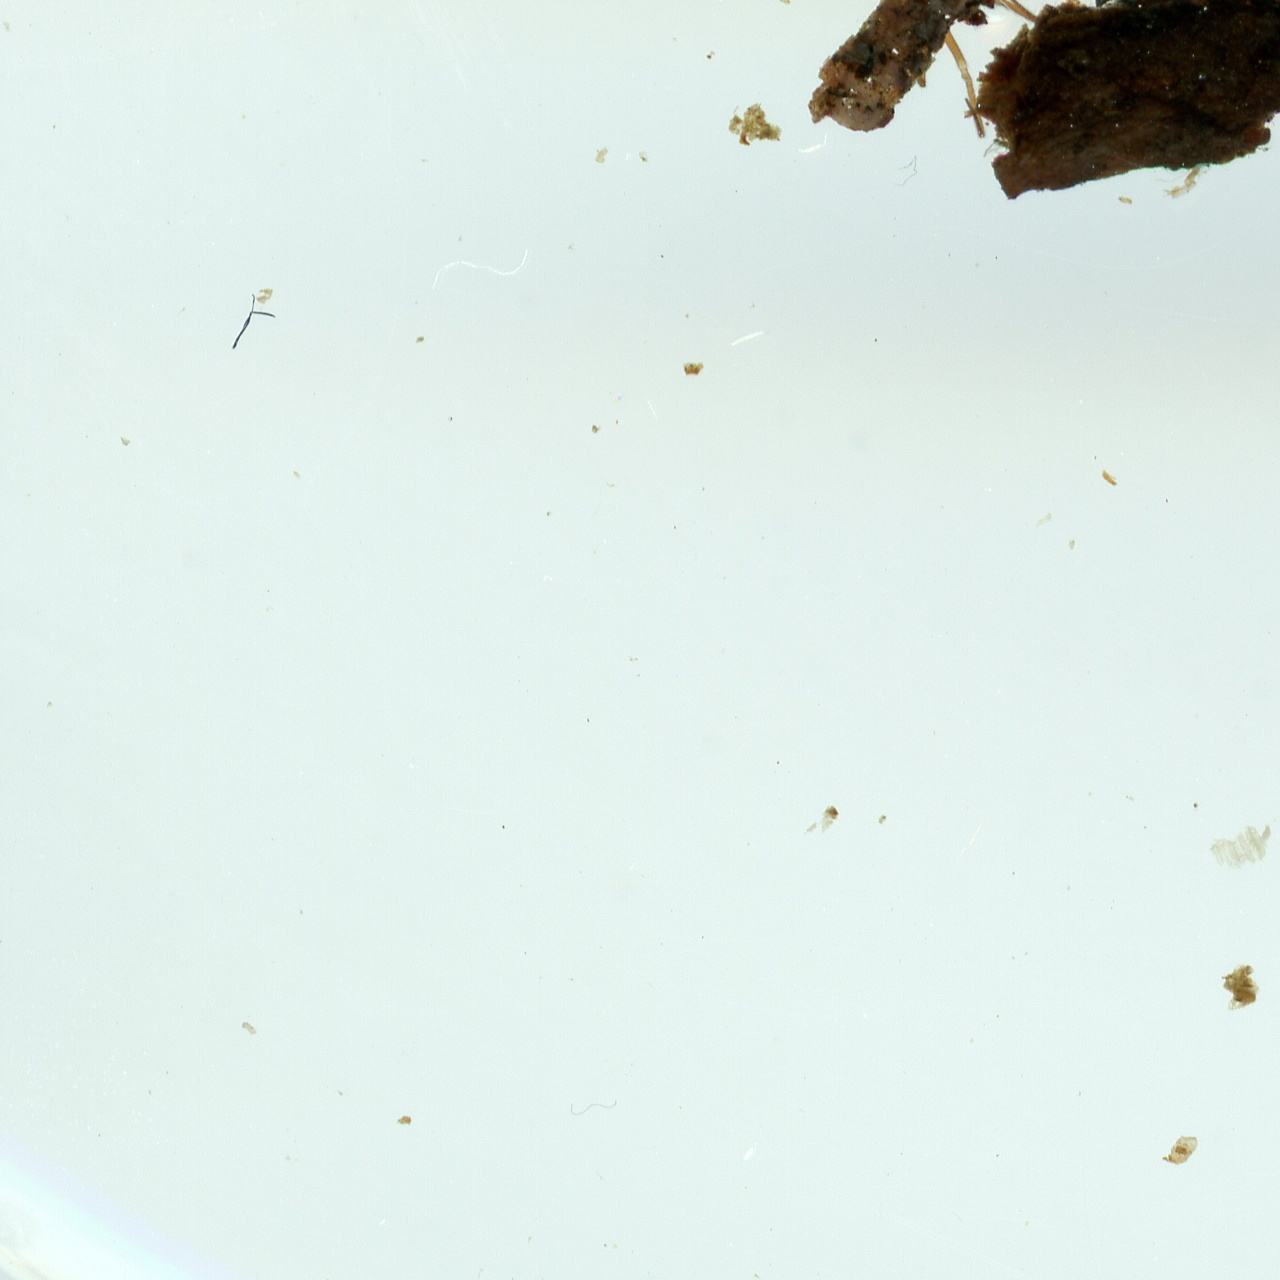arthropod: (785, 0, 1115, 152)
